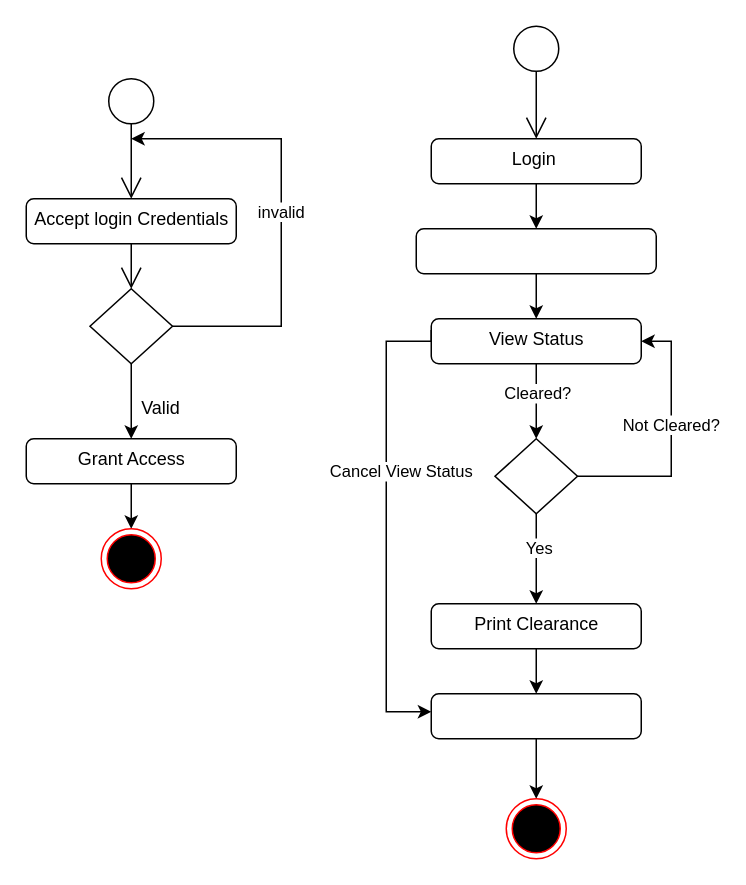
The diagram is 746 pixels wide and 885 high, and some of its shapes have lost their labels. Each missing label, with the centre of its shape:
Click on Clearance: (535,250)
Logout: (535,715)
